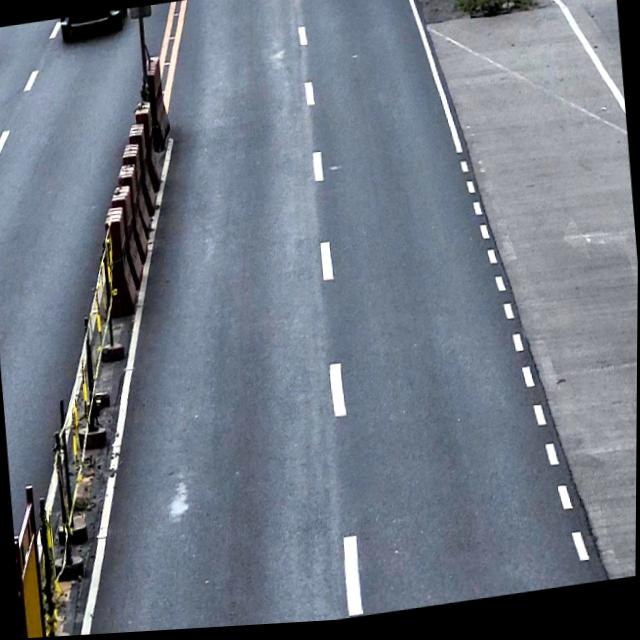Car: (59, 10, 127, 42)
